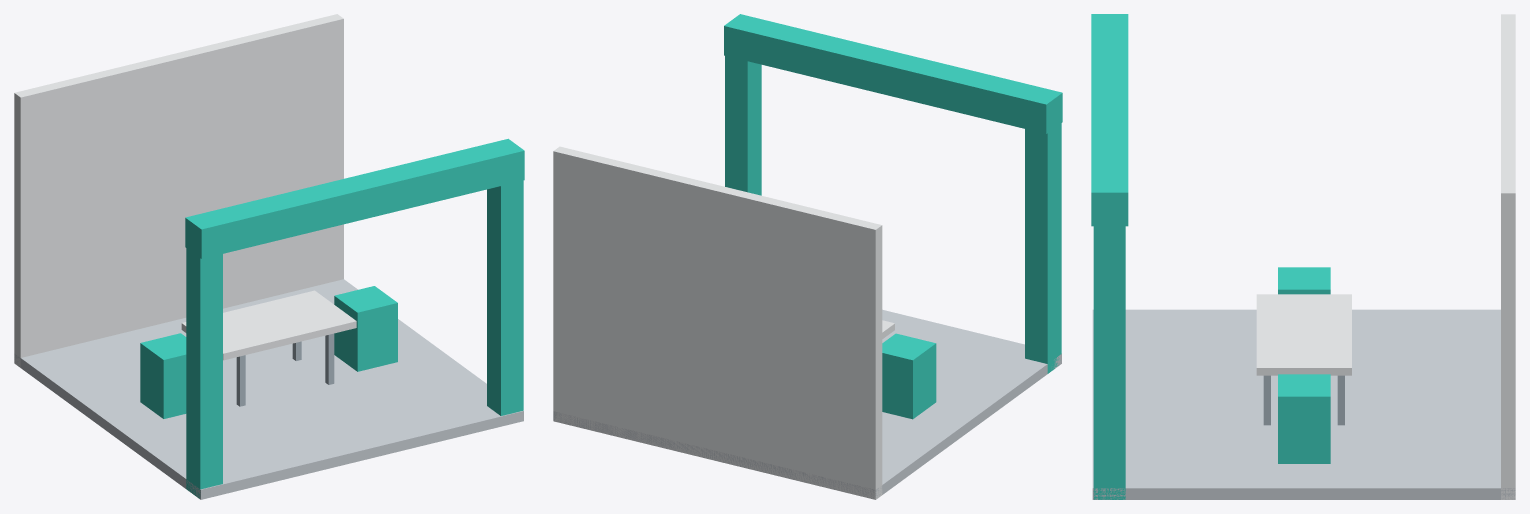
The picture shows the model from 3 angles, left to right: view 1: azimuth 30°, elevation 25°; view 2: azimuth 150°, elevation 25°; view 3: azimuth 270°, elevation 25°; orthographic projection. The views are drawn at different scales.
Visible parts, largest first — view 1: Exhibition Booth Concept; view 2: Exhibition Booth Concept; view 3: Exhibition Booth Concept.
Boxes of the visible parts, x1=… form: Exhibition Booth Concept: x1=14, y1=14, x2=524, y2=499; Exhibition Booth Concept: x1=553, y1=14, x2=1062, y2=499; Exhibition Booth Concept: x1=1091, y1=14, x2=1515, y2=499.
Bounding box in the file's own units: 4 × 3.2 × 4.02.
